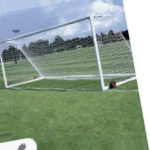goals: (1, 14, 137, 93)
